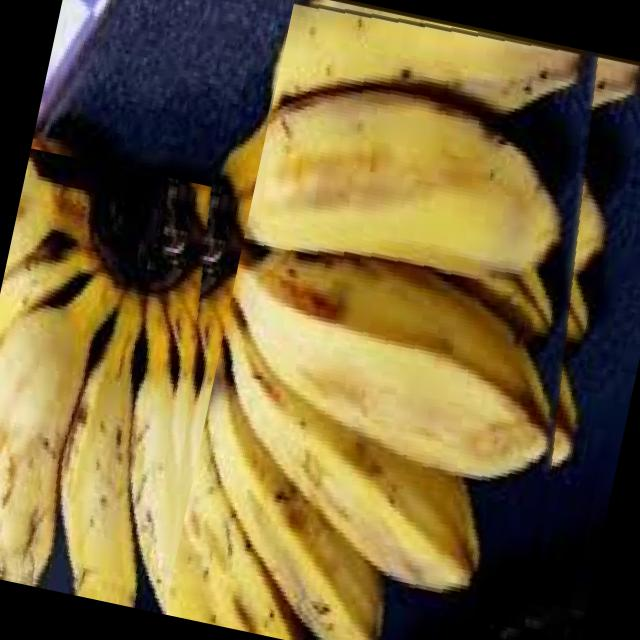Organic: (162, 0, 640, 640), (0, 147, 253, 614)
